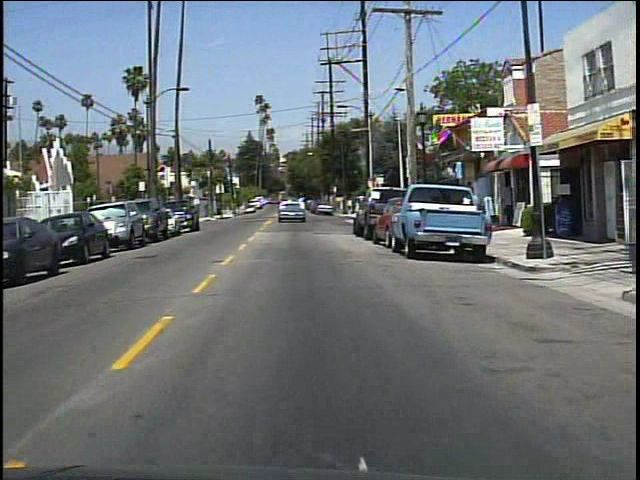person: (460, 185, 482, 233)
